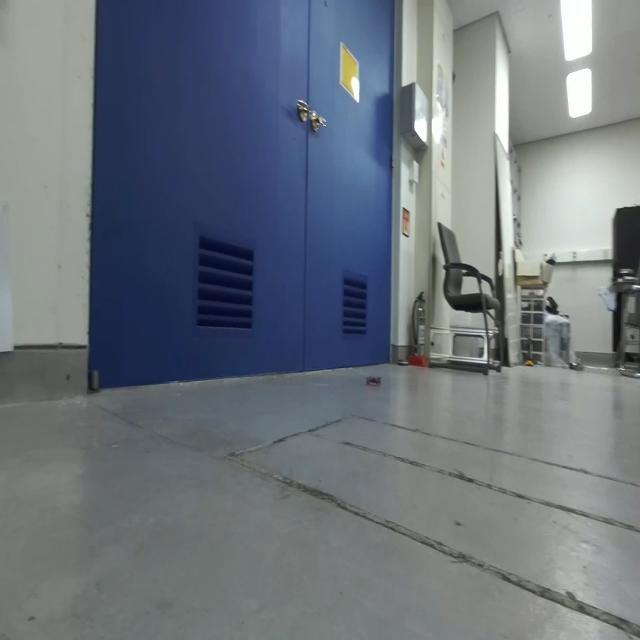crazyflie: (364, 368, 382, 389)
